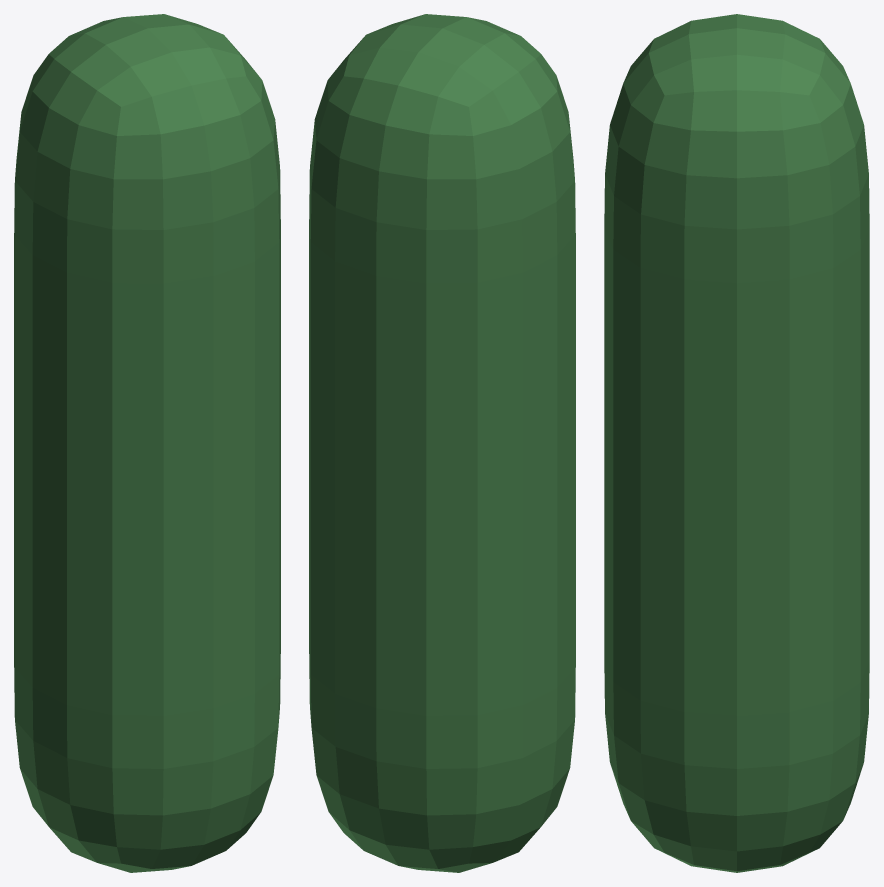
Rendered from Item_Cucumber.fbx.
3 renders of one model, left to right at view 1: azimuth 30°, elevation 25°; view 2: azimuth 150°, elevation 25°; view 3: azimuth 270°, elevation 25°, orthographic.
Visible parts, largest first — view 1: Cube; view 2: Cube; view 3: Cube.
Boxes of the visible parts, x1,y1,x2,y2 form: Cube: [14, 14, 280, 872]; Cube: [309, 14, 575, 872]; Cube: [604, 14, 869, 872].
Bounding box in the file's own units: 183 × 633 × 183.
